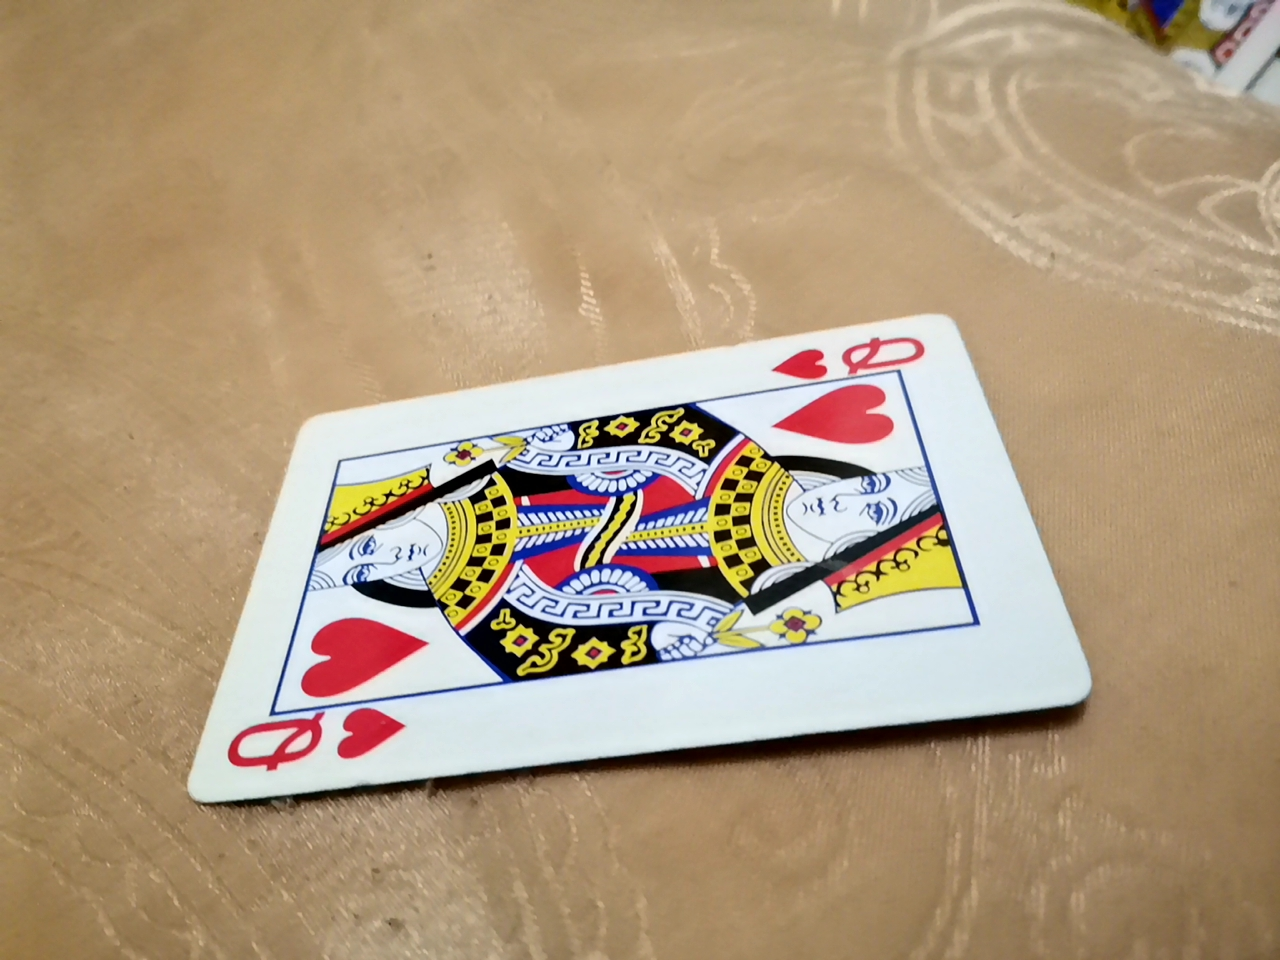hx q: (173, 364, 1089, 828)
